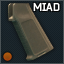AR-15 Magpul MIAD pistol grip Flat Dark Earth: (0, 0, 64, 64)
